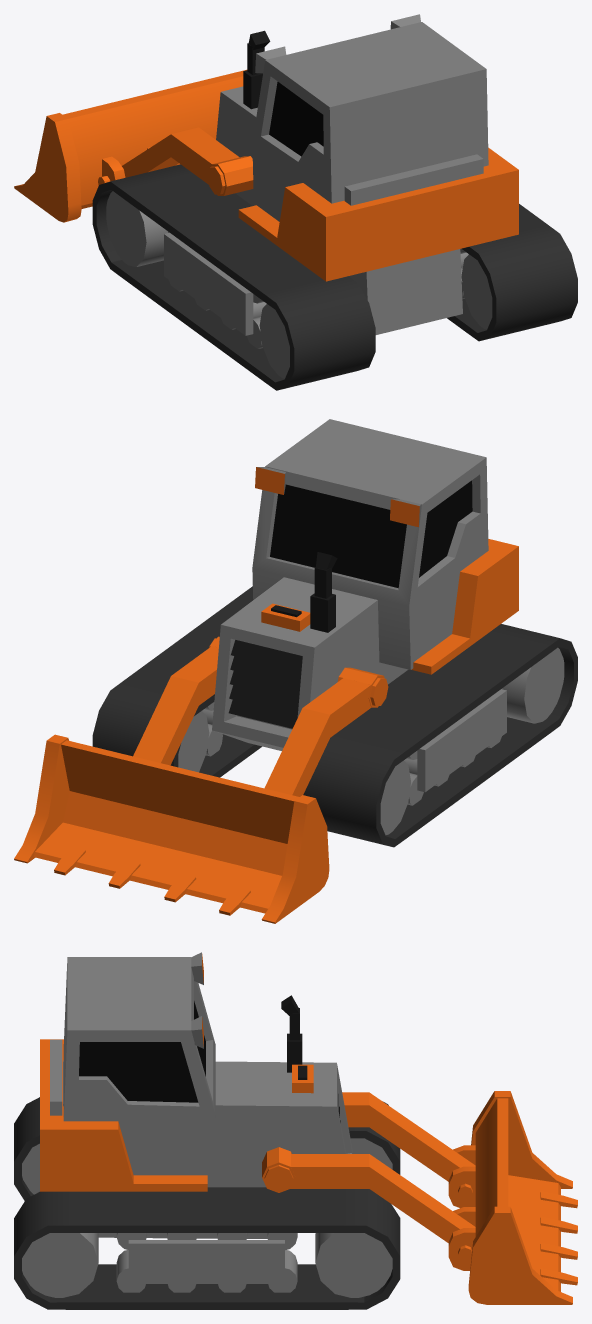
The model's file is Bulldozer_02.fbx.
3 views of the same model, one above another, from view 1: azimuth 30°, elevation 25°; view 2: azimuth 150°, elevation 25°; view 3: azimuth 270°, elevation 25° (orthographic). The views are drawn at different scales.
Parts seen in each view (by area): view 1: Dozer, Dozer.001, DozerFork, DozerForkLift; view 2: Dozer, Dozer.001, DozerFork, DozerForkLift; view 3: Dozer, Dozer.001, DozerFork, DozerForkLift.
Boxes of the visible parts, x1,y1,x2,y2 form: Dozer: (216, 14, 518, 334); Dozer.001: (92, 164, 577, 390); DozerFork: (14, 69, 246, 222); DozerForkLift: (122, 127, 253, 195); Dozer: (212, 419, 518, 750); Dozer.001: (92, 586, 577, 847); DozerFork: (14, 734, 329, 923); DozerForkLift: (133, 636, 388, 796); Dozer: (40, 952, 353, 1239); Dozer.001: (14, 1097, 400, 1309); DozerFork: (448, 1091, 577, 1304); DozerForkLift: (262, 1092, 475, 1242).
Bounding box in the file's own units: 7.1 × 12.75 × 6.33.
